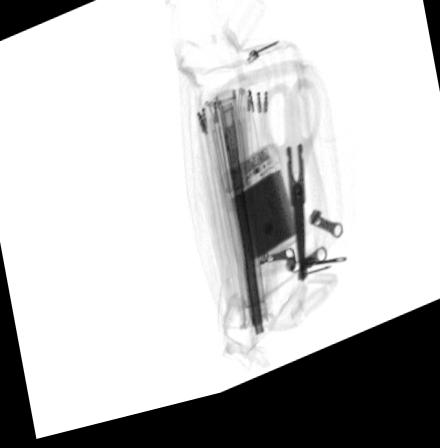Powerbank: (214, 154, 305, 282)
Scissors: (257, 89, 325, 297)
